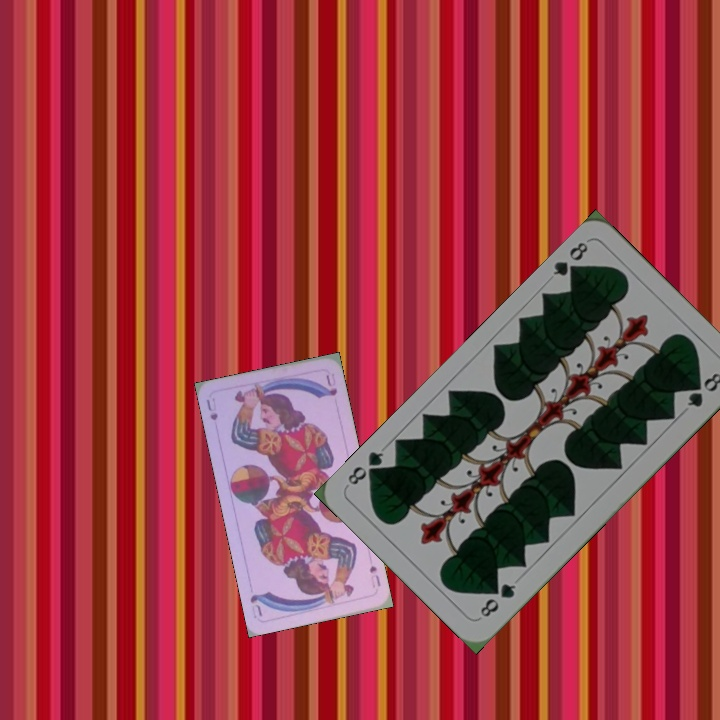G8: (548, 235, 592, 283), (475, 579, 519, 620)
SU: (202, 394, 220, 423), (365, 561, 383, 589)
